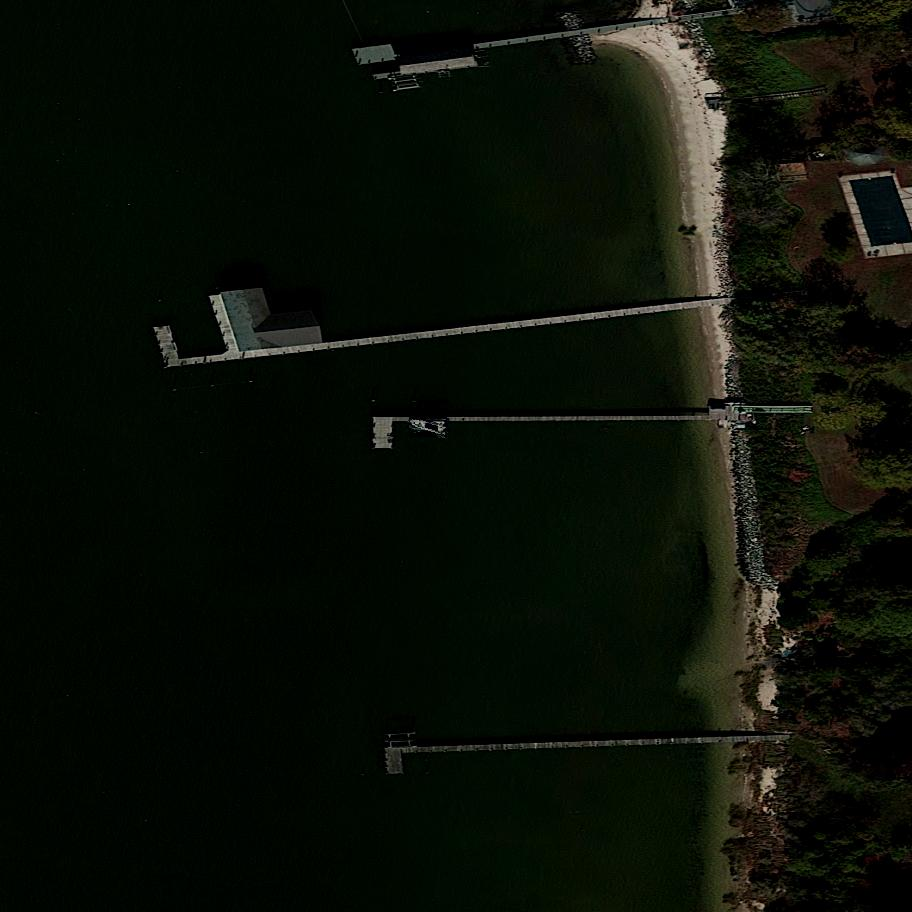ship: (410, 417, 449, 438)
